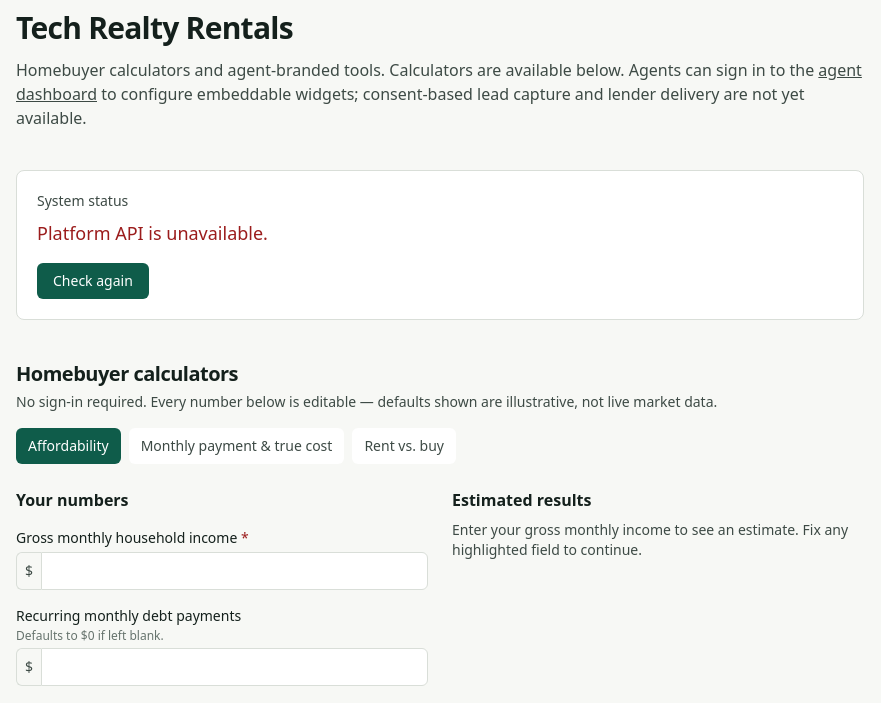
Test: App › shows unavailable when the network fails and recovers on re-check
Expected: the text "Platform API is unavailable." is shown, [37,221,268,245]
Click the button "Check again". click: (93, 281)
box: [37,263,149,299]
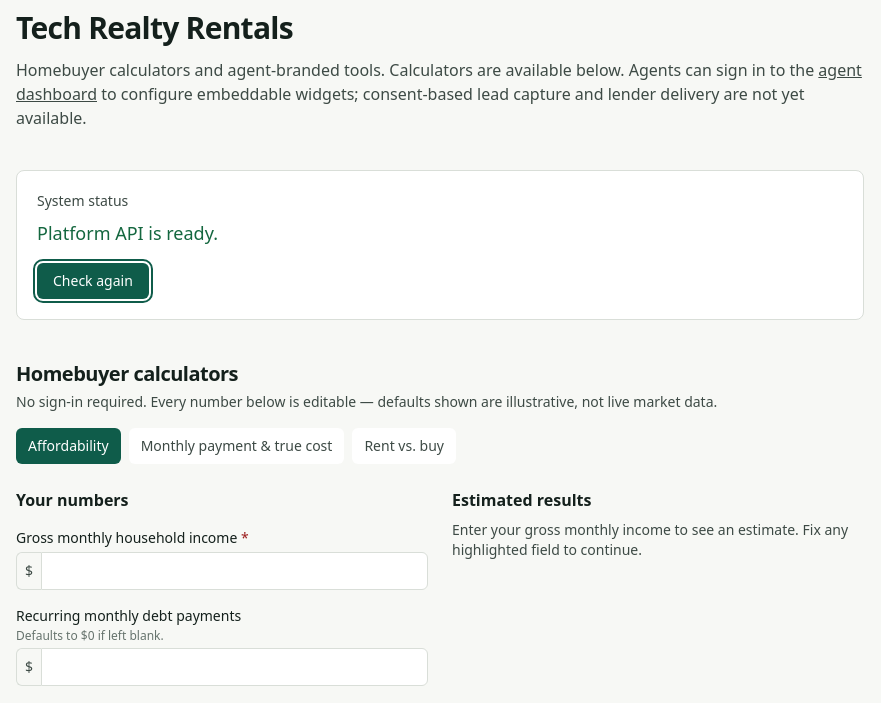
Expected: the text "Platform API is ready." is shown, [37,221,218,245]
